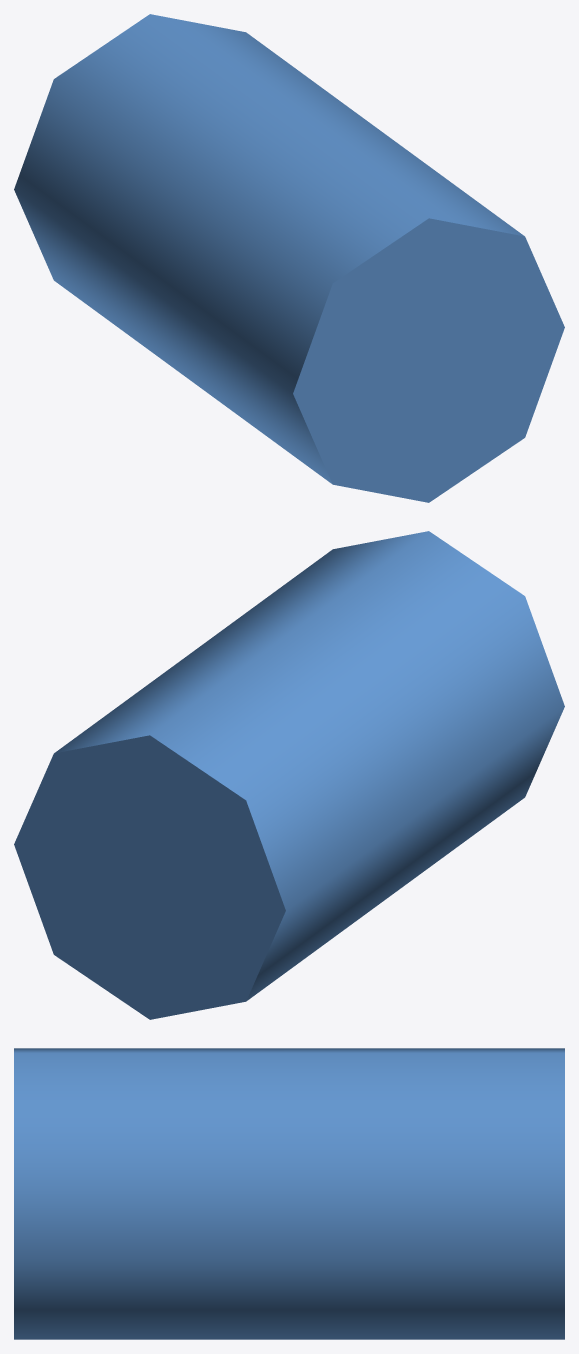
Rendered from auto_turret_machine_gun_bullet_case.fbx.
3 renders of one model, top to bottom at view 1: azimuth 30°, elevation 25°; view 2: azimuth 150°, elevation 25°; view 3: azimuth 270°, elevation 25°, orthographic.
Parts seen in each view (by area): view 1: auto_turret_machine_gun_bullet_case; view 2: auto_turret_machine_gun_bullet_case; view 3: auto_turret_machine_gun_bullet_case.
Part boxes in pixels (box(x1,y1,x2,y2)): auto_turret_machine_gun_bullet_case: box(14, 14, 564, 502); auto_turret_machine_gun_bullet_case: box(14, 531, 564, 1019); auto_turret_machine_gun_bullet_case: box(14, 1048, 564, 1339).
Bounding box in the file's own units: 12.19 × 12.19 × 21.66.
